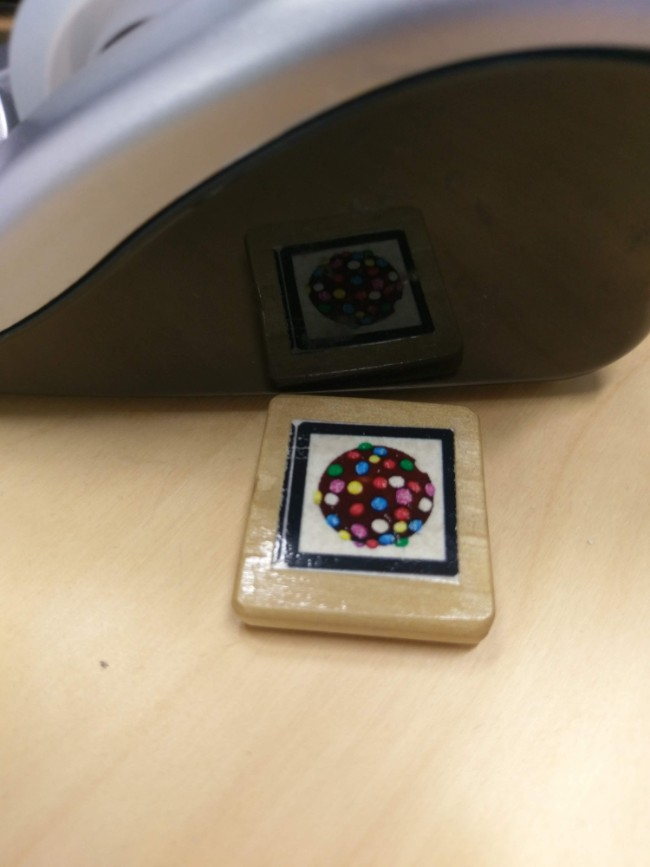cookie: (256, 407, 472, 593)
